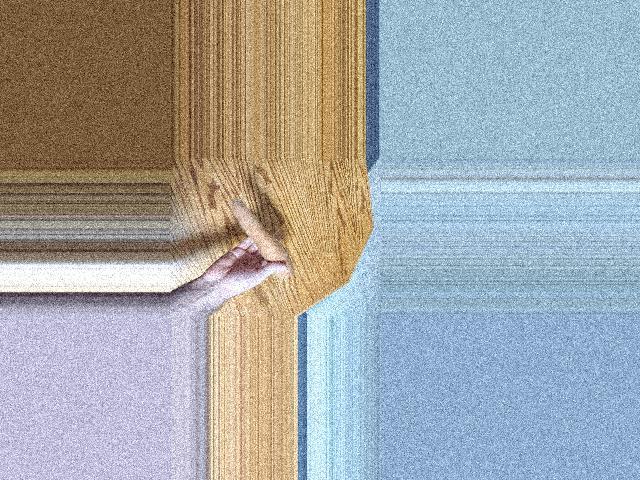sweet_potato: (228, 200, 289, 278)
